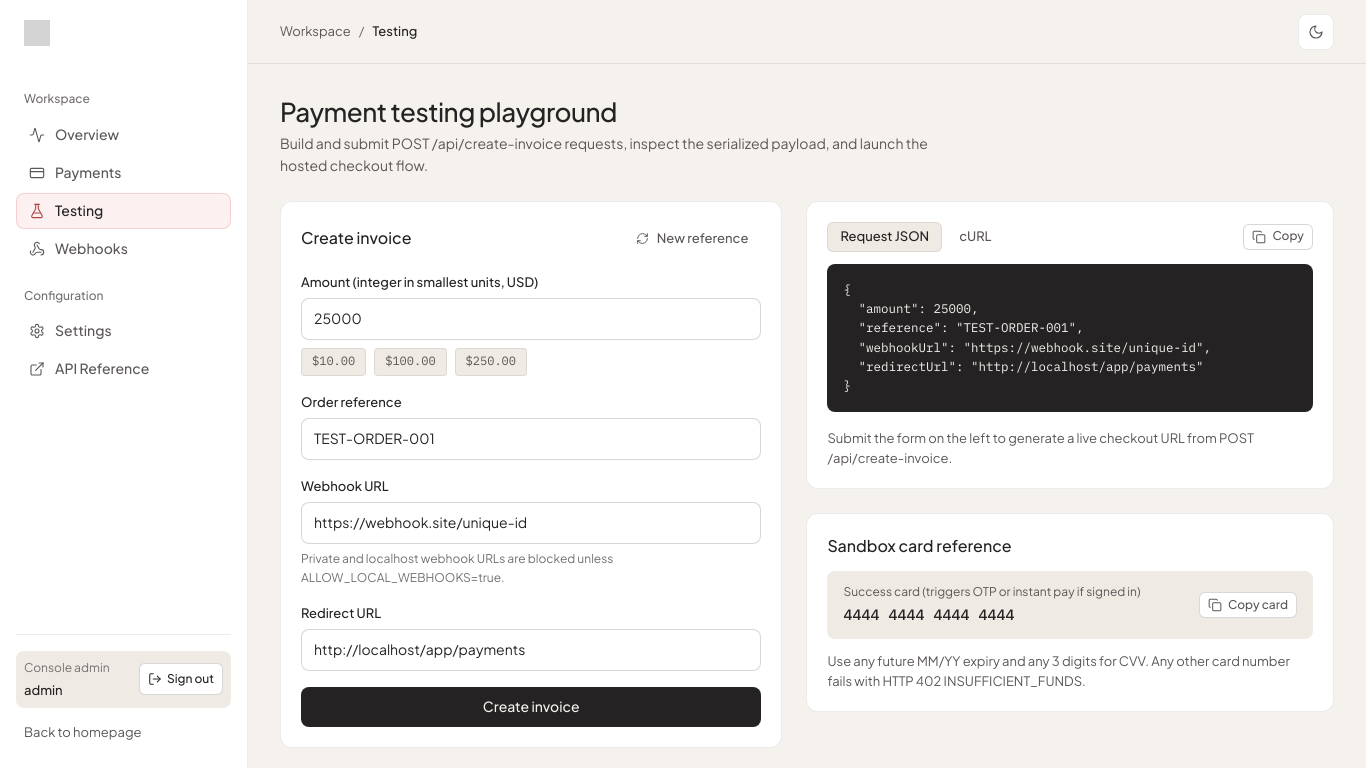
Test: console interactions and UI resilience › validates and submits create-invoice form in TestingPage with minor-unit presets
The image size is (1366, 768).
expect the button "$250.00" is shown: met, box [455,348,527,376]
Click the button "Create invoice": (531,707) [301,687,761,727]
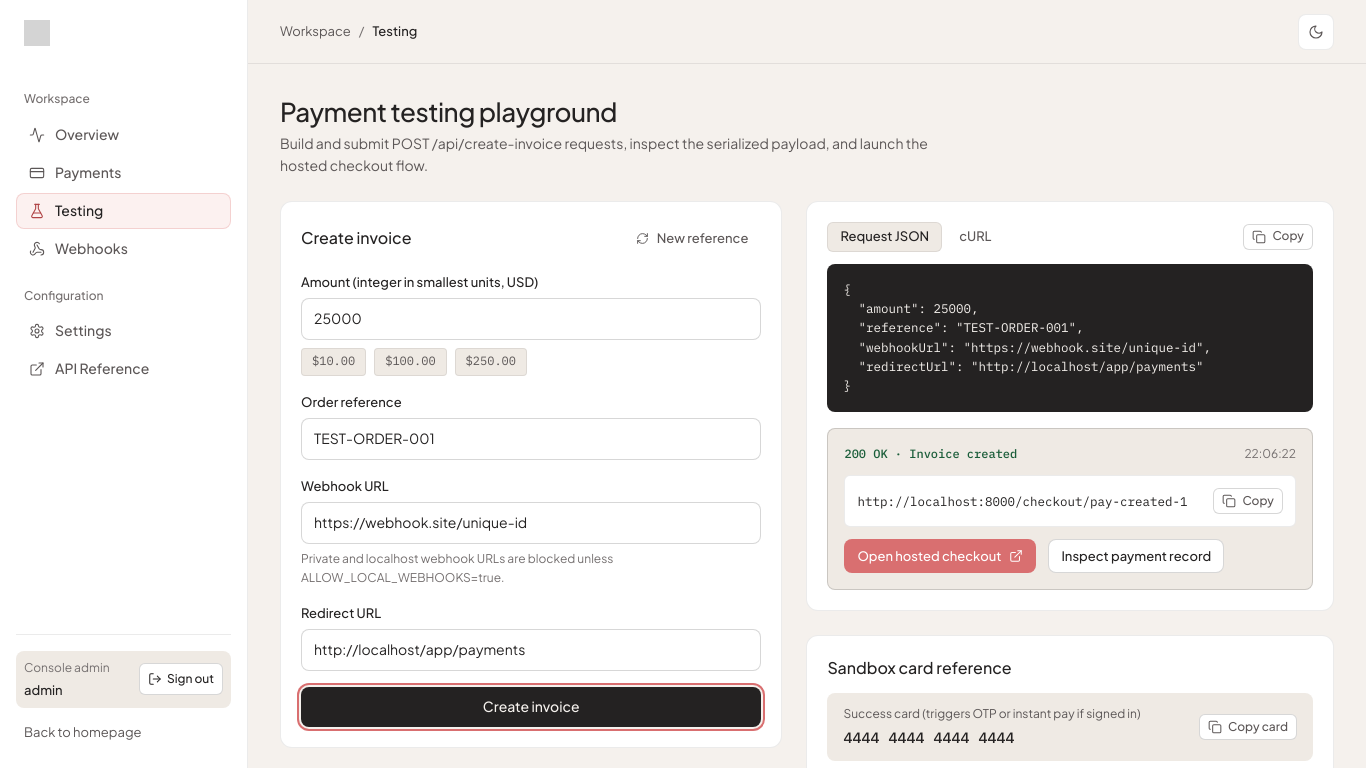
expect the text "http://localhost:8000/checkout/pay-created-1" is shown: met, box [857,492,1187,511]
